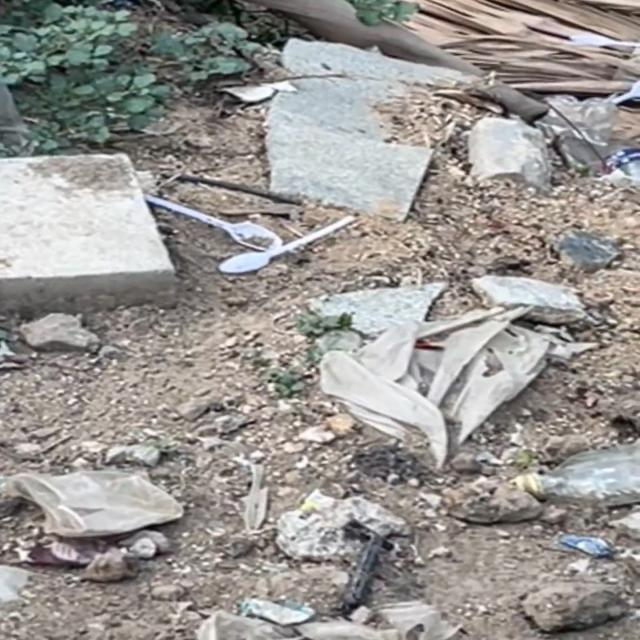paper: (330, 326, 530, 459)
plastic: (160, 195, 342, 294), (23, 469, 224, 551)
